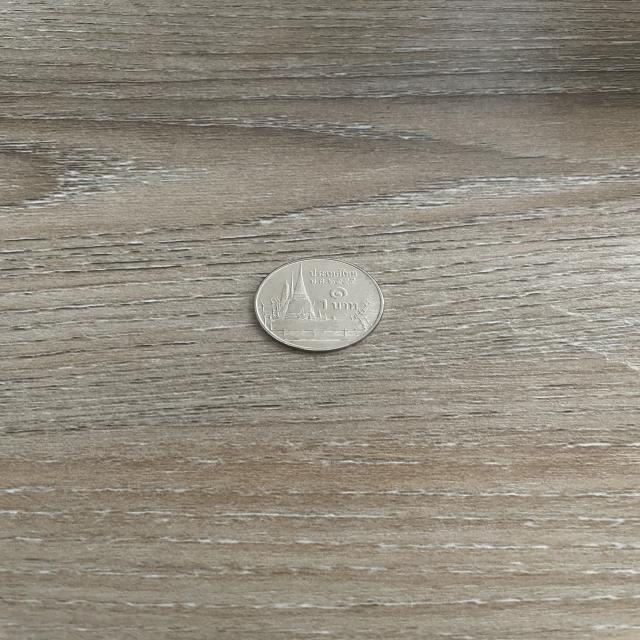1 Bath: (247, 252, 393, 360)
